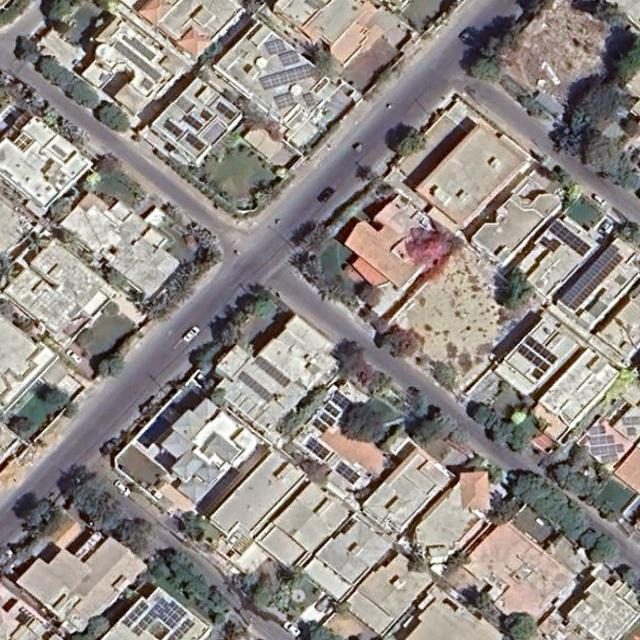solar panel: (560, 242, 627, 311), (131, 593, 187, 640), (578, 421, 629, 470), (111, 40, 162, 83), (546, 217, 591, 256), (260, 61, 318, 90), (253, 356, 292, 388), (237, 373, 275, 404), (523, 334, 559, 365), (121, 31, 157, 62), (514, 343, 551, 373), (122, 599, 150, 627), (303, 437, 331, 463), (333, 460, 360, 486), (167, 617, 196, 640), (279, 47, 301, 67), (162, 118, 183, 138), (215, 101, 236, 121), (184, 133, 206, 152), (265, 36, 287, 55), (328, 390, 350, 409), (274, 91, 296, 109), (183, 113, 203, 132), (321, 402, 341, 420), (311, 417, 329, 433), (319, 412, 337, 427), (199, 108, 213, 122), (303, 92, 316, 107), (141, 77, 154, 90), (622, 416, 639, 425), (627, 427, 636, 435)
